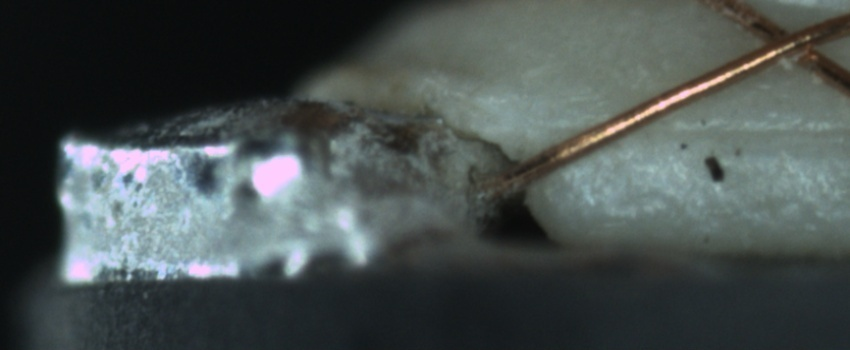CL: (739, 8, 840, 76)
DL: (609, 97, 845, 165)
